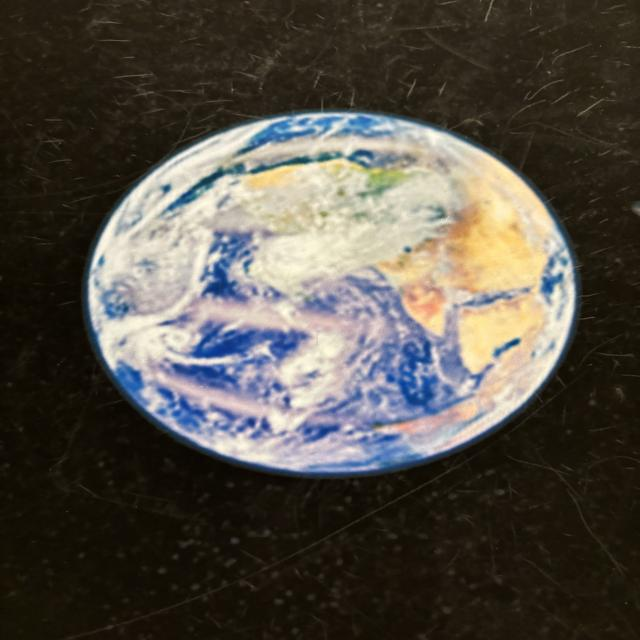Earth: (85, 108, 586, 476)
